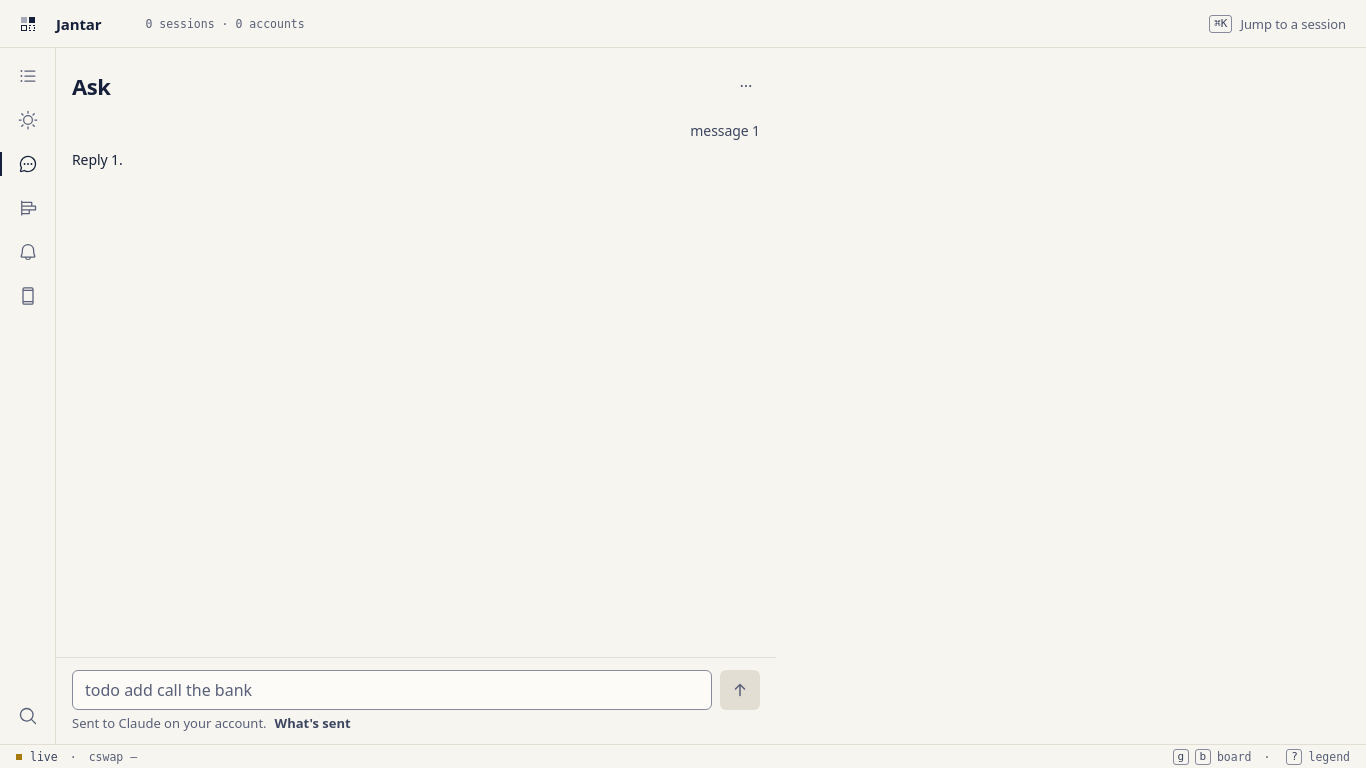
Test: the page › a refused Clear shows in the sheet and keeps the list; the sheet opens again without it
Check: the text "Reply 1." is shown, box x1=72 y1=150 x2=123 y2=169
Click the button named "Ask history" at (746, 86), box x1=732 y1=72 x2=760 y2=100
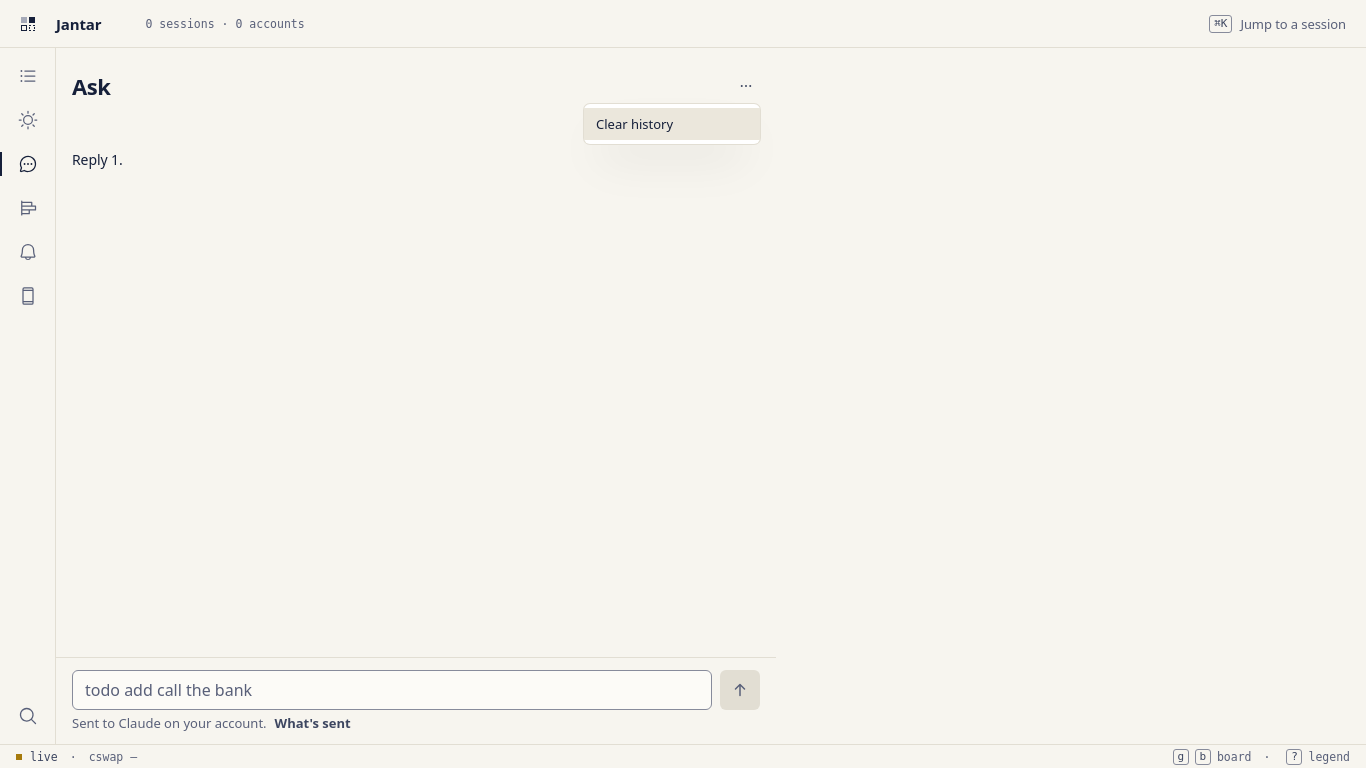
Click the menu item "Clear history" at (672, 124), box x1=584 y1=108 x2=760 y2=140
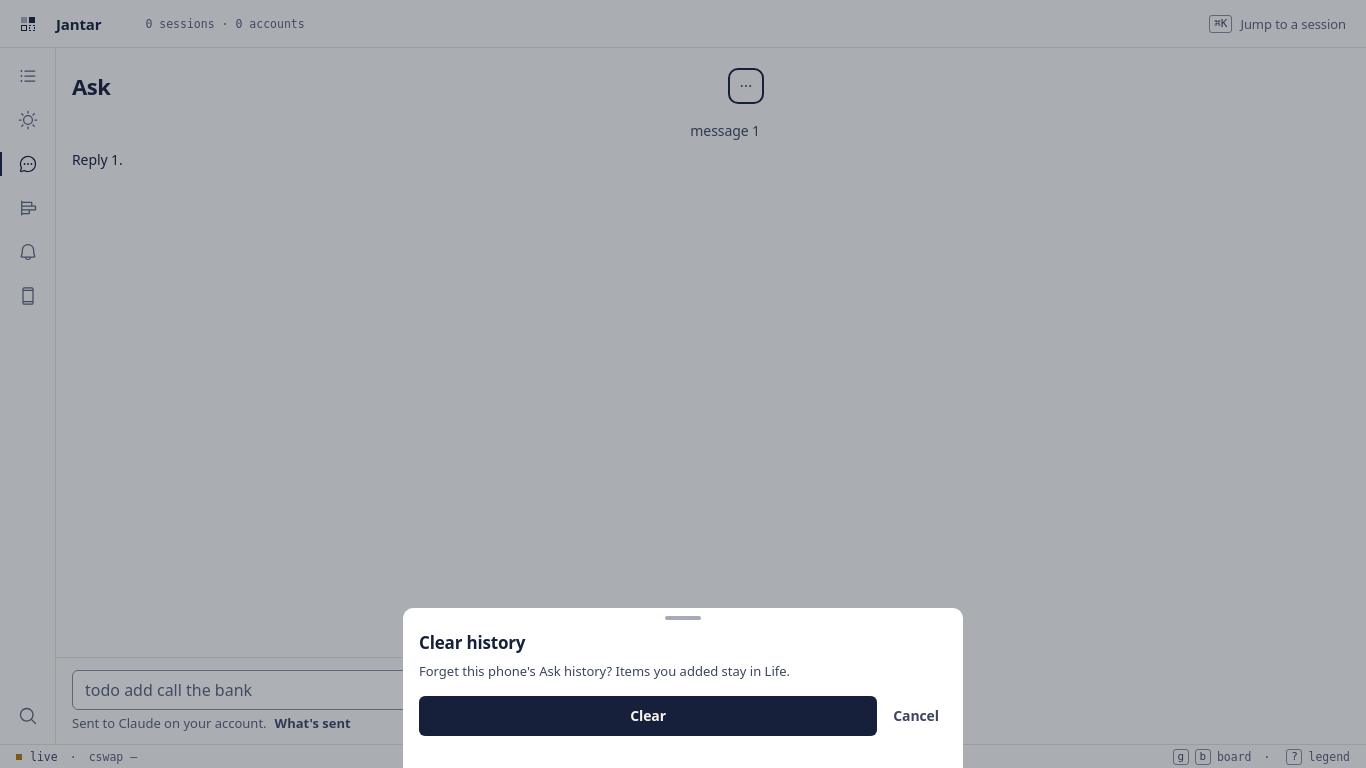
Check: the text "Forget this phone's Ask history? Items you added stay in Life." is shown, box x1=419 y1=662 x2=790 y2=680
Click the button "Clear" at (648, 716), box x1=419 y1=696 x2=877 y2=736
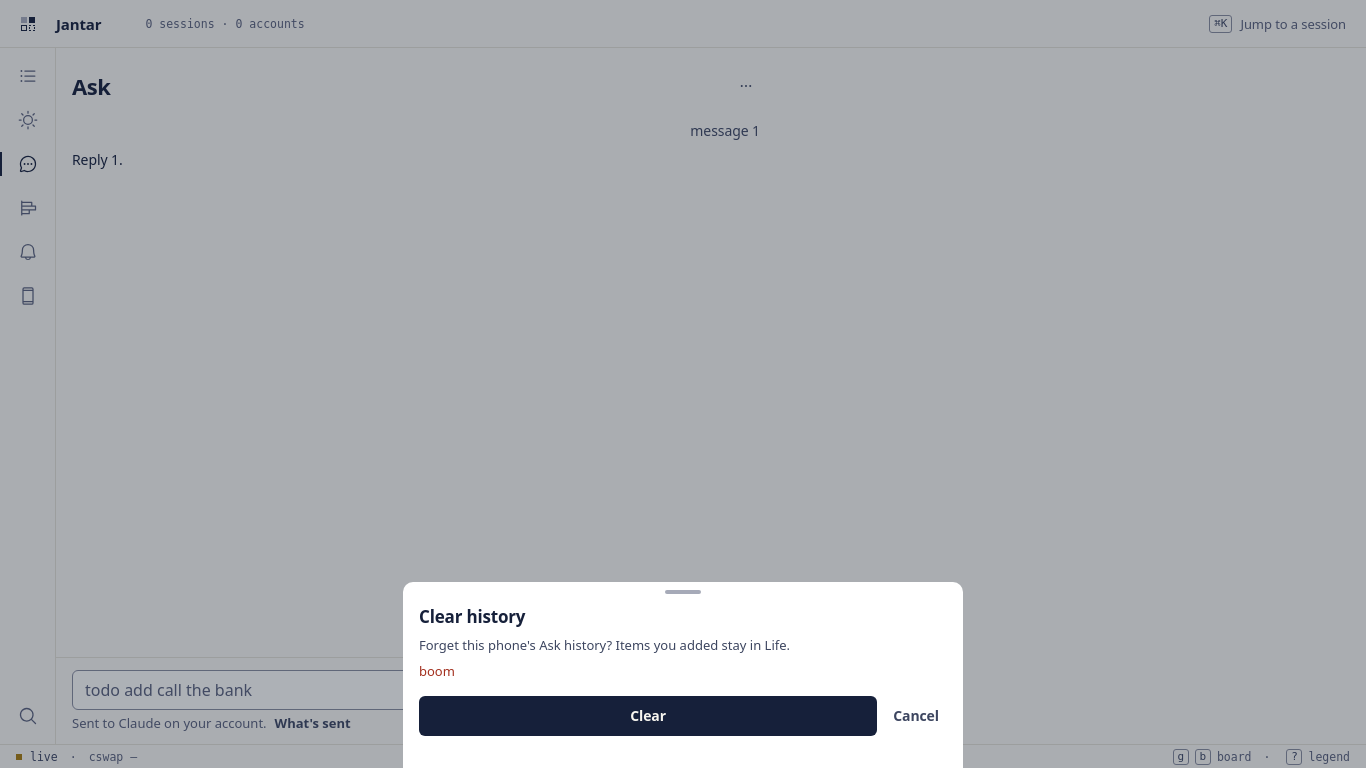
Check: the text "Reply 1." is shown, box x1=72 y1=150 x2=123 y2=169
Check: the message reads "boom", box x1=419 y1=662 x2=455 y2=680
Click the button "Cancel" at (916, 716), box x1=885 y1=696 x2=947 y2=736
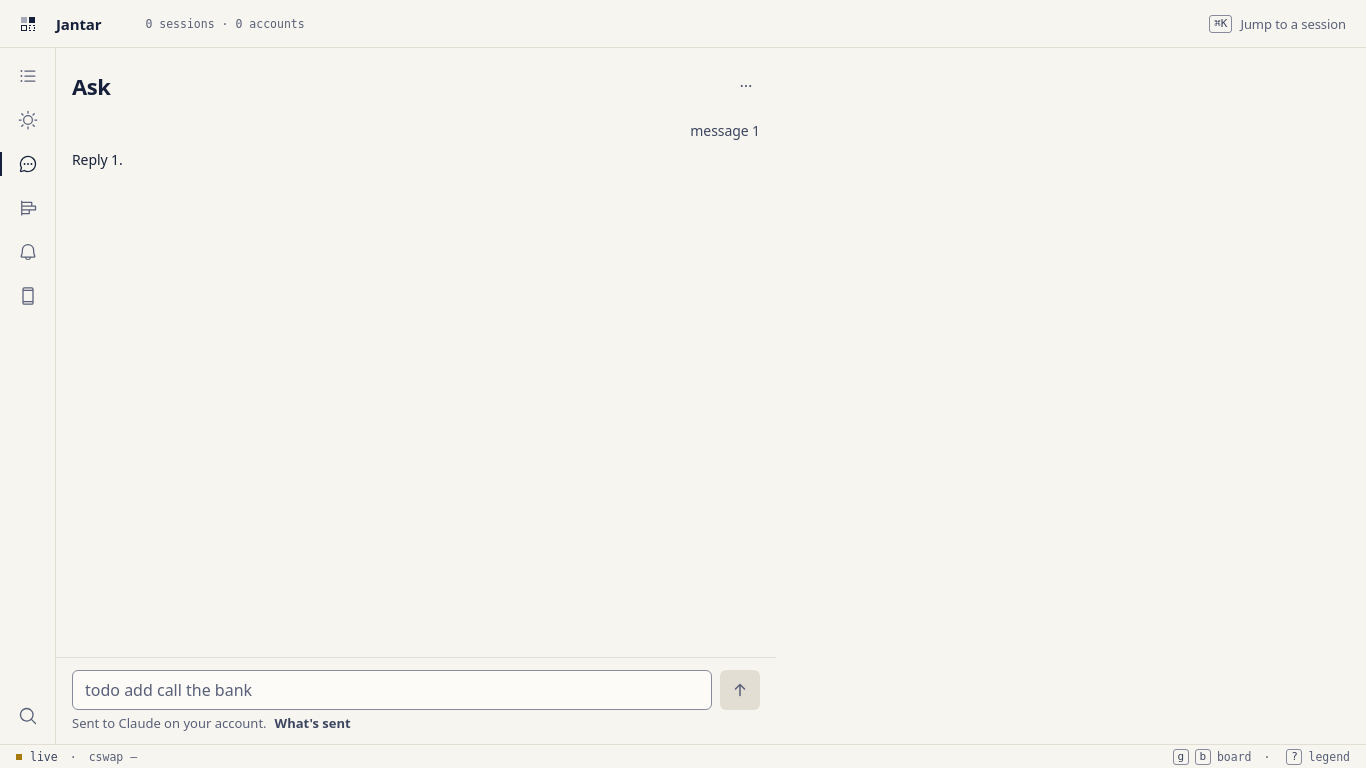
Check: the text "Forget this phone's Ask history? Items you added stay in Life." is gone
Click the button named "Ask history" at (746, 86), box x1=732 y1=72 x2=760 y2=100
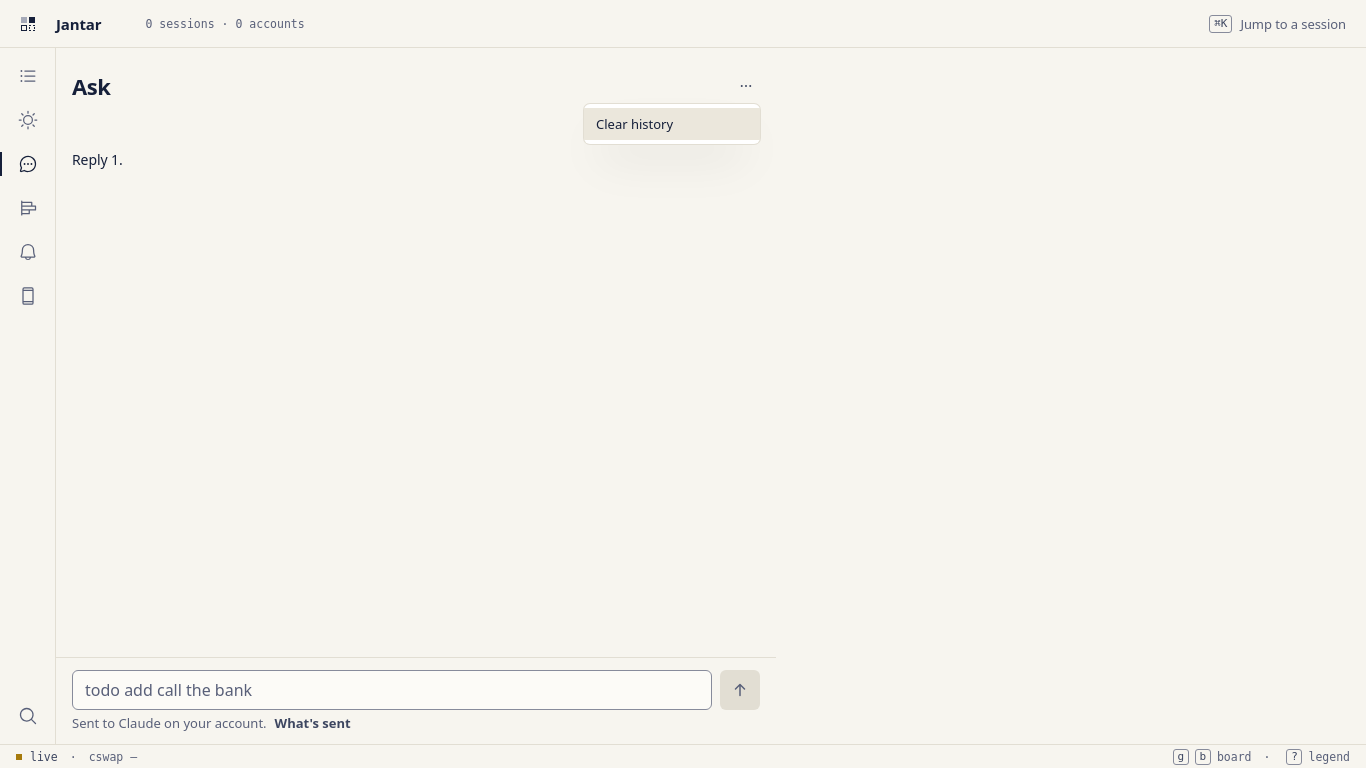
Click the menu item "Clear history" at (672, 124), box x1=584 y1=108 x2=760 y2=140
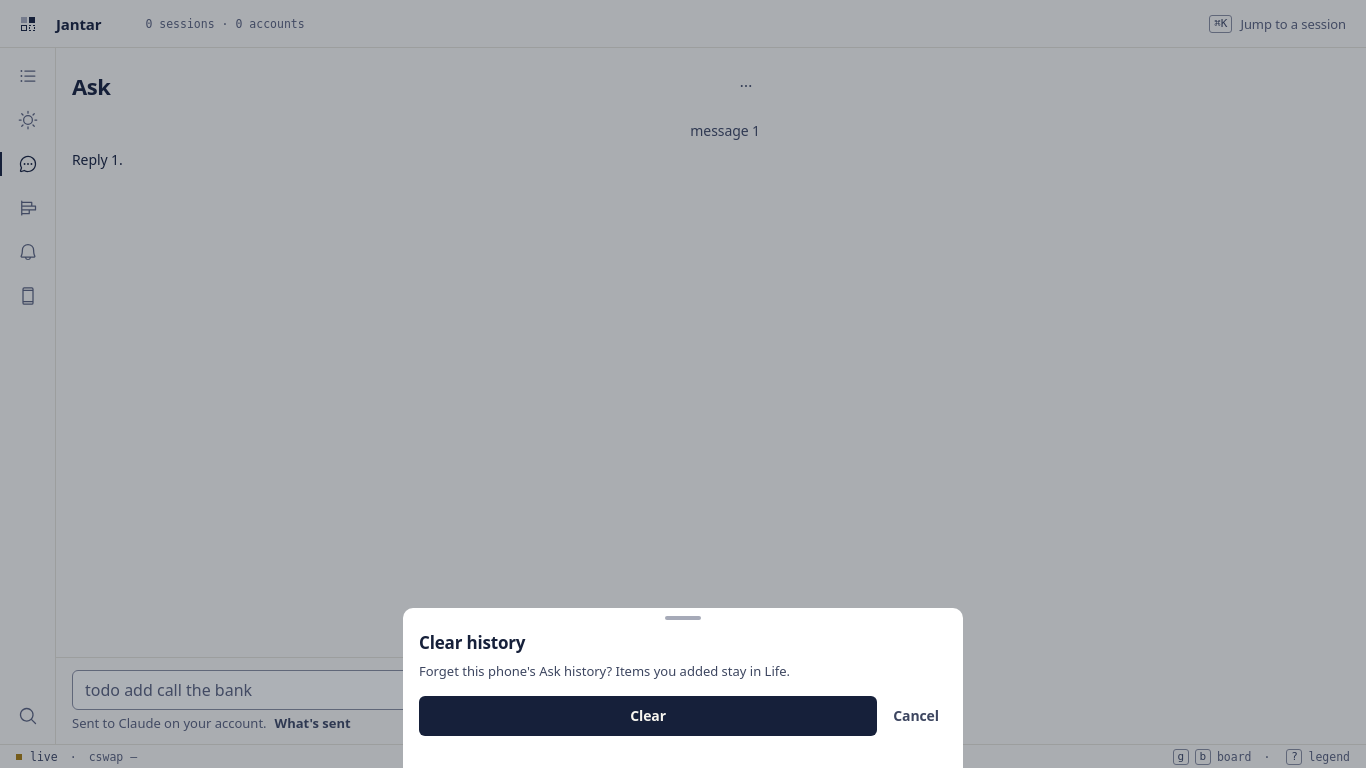
Check: the message "boom" is not shown
Check: the text "Forget this phone's Ask history? Items you added stay in Life." is shown, box x1=419 y1=662 x2=790 y2=680
